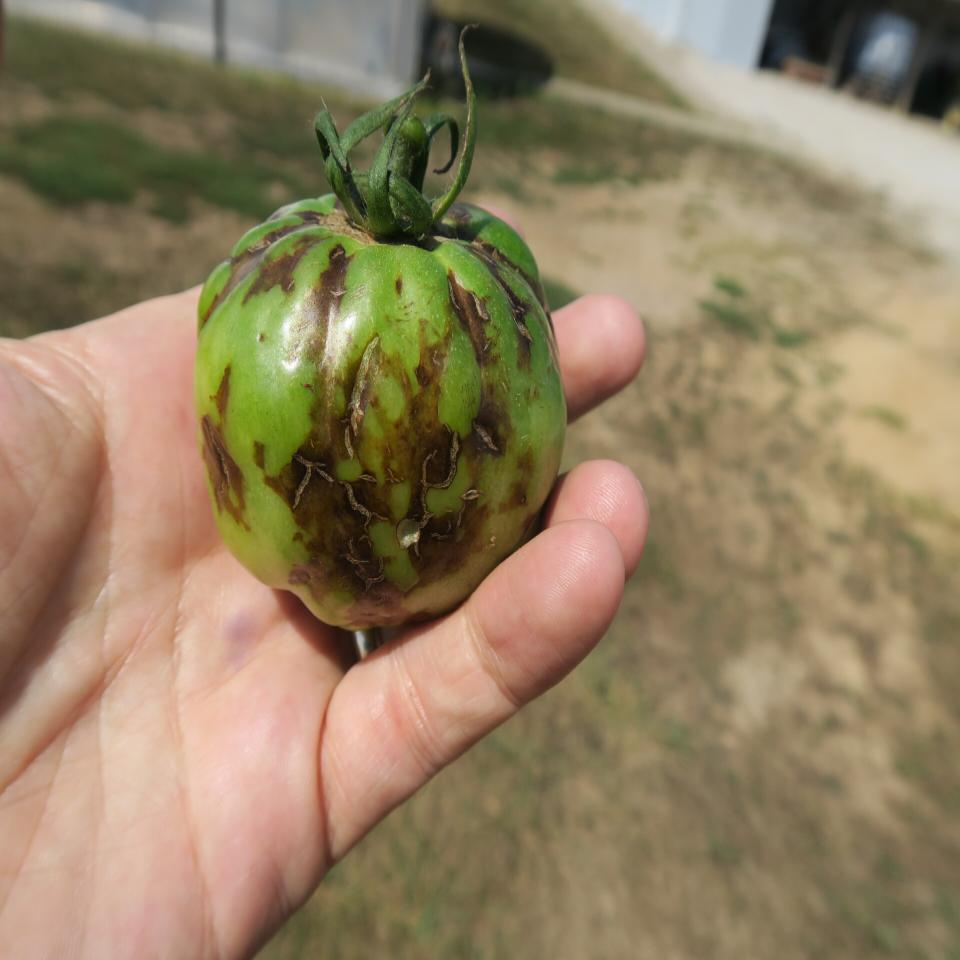Spotted wilt Virus: (197, 180, 561, 632)
